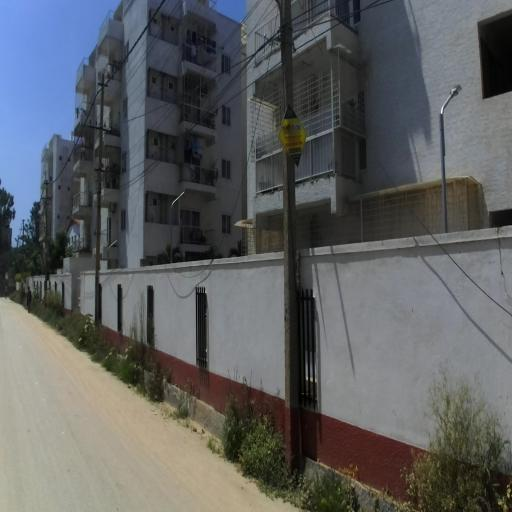street_light_0: (15, 237, 18, 243)
